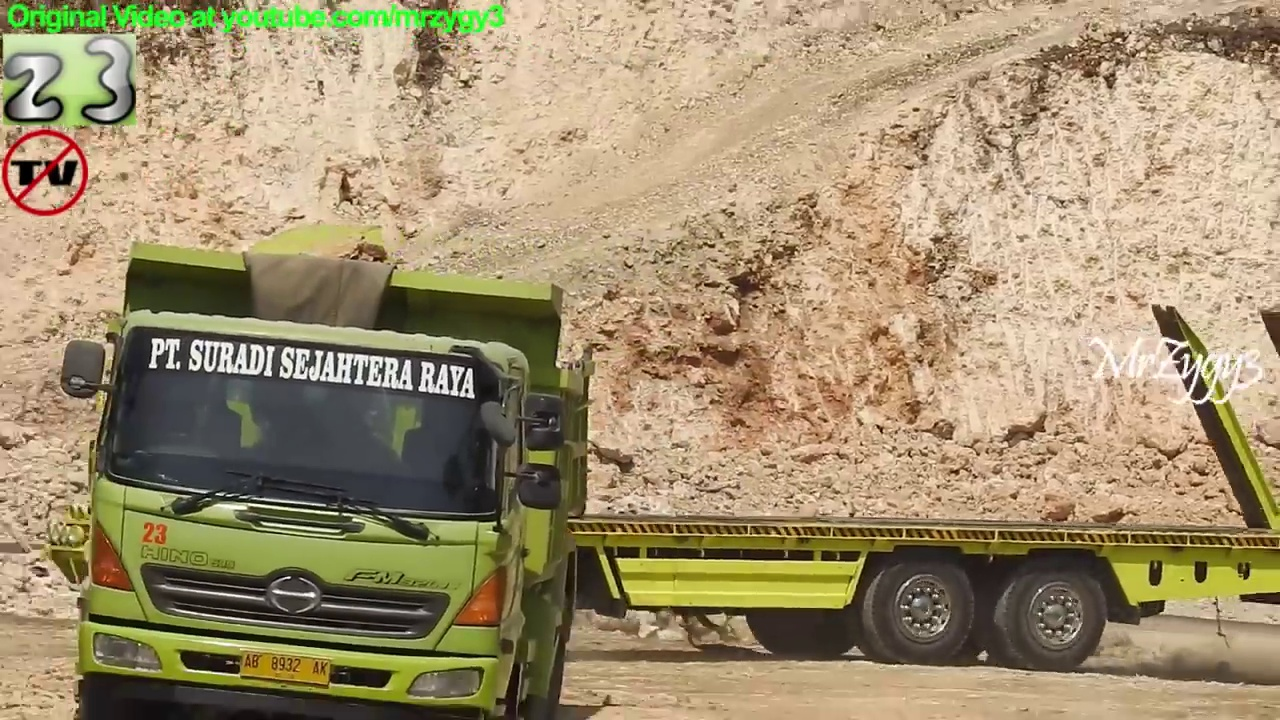truck: (46, 214, 1280, 677), (58, 238, 603, 720)
